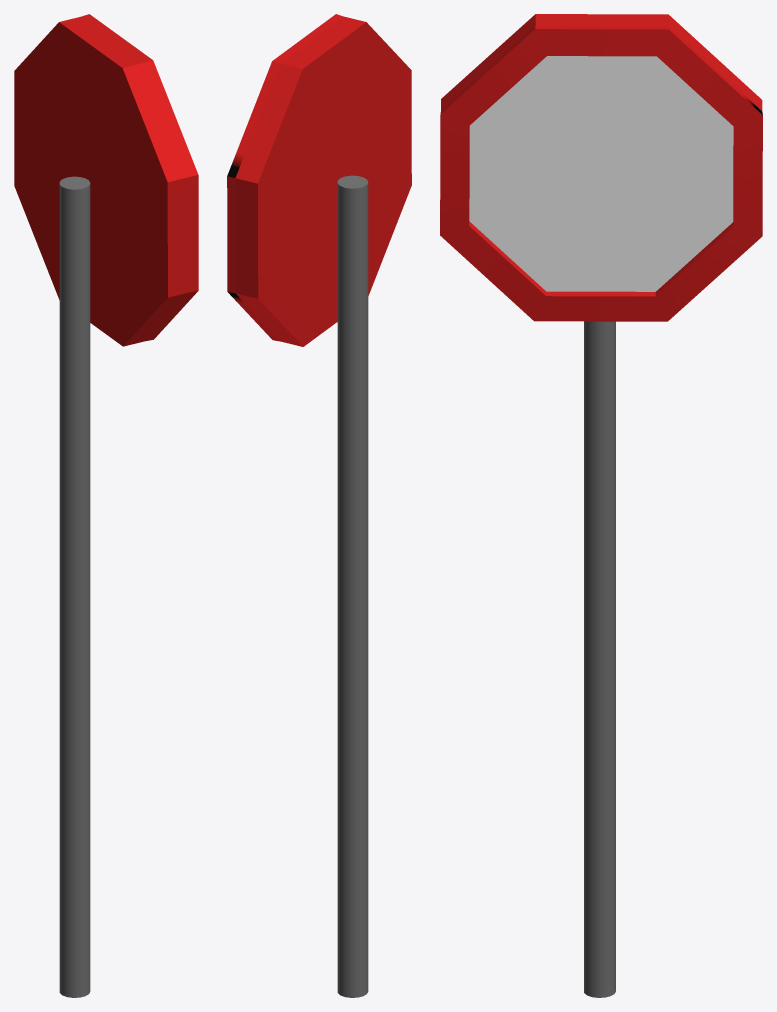
File: RoadSign_06.fbx
3 renders of one model, left to right at view 1: azimuth 30°, elevation 25°; view 2: azimuth 150°, elevation 25°; view 3: azimuth 270°, elevation 25°, orthographic. The views are drawn at different scales.
Visible parts, largest first — view 1: stop_signs_w_ext; view 2: stop_signs_w_ext; view 3: stop_signs_w_ext.
Boxes of the visible parts, x1,y1,x2,y2 form: stop_signs_w_ext: [14, 14, 198, 997]; stop_signs_w_ext: [227, 14, 411, 997]; stop_signs_w_ext: [440, 14, 762, 997].
Size of the model in its own units: 0.1346 by 1.94 by 0.5743.
